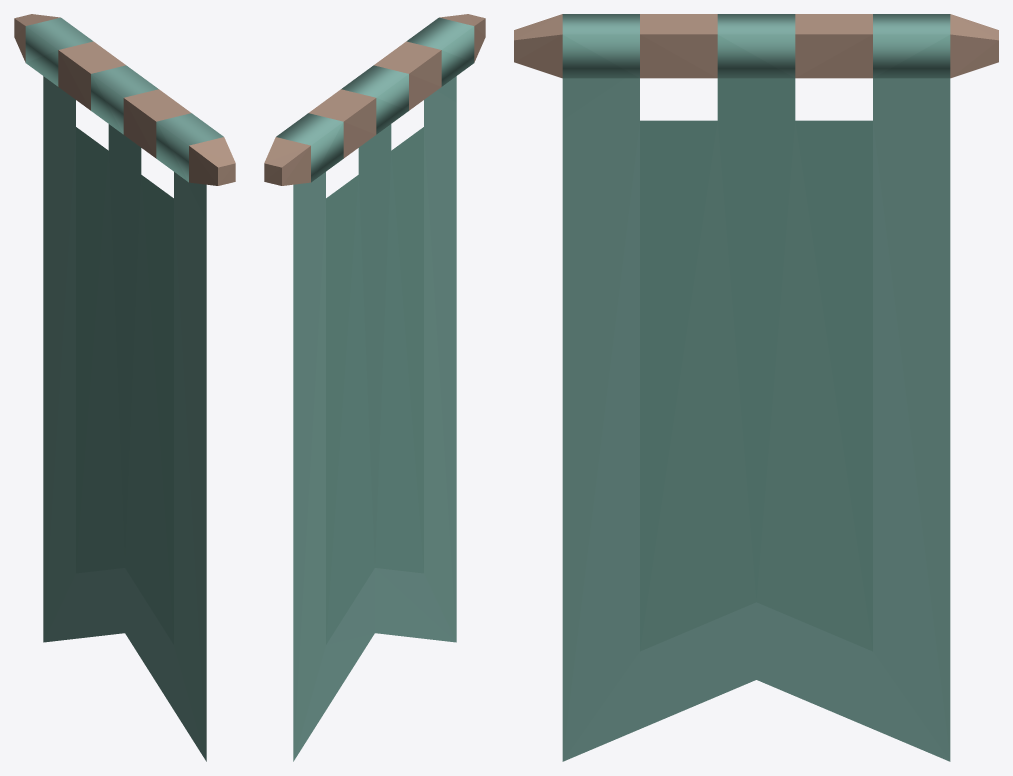
The model's file is kenney_banner-green.fbx.
3 views of the same model, side by side, from view 1: azimuth 30°, elevation 25°; view 2: azimuth 150°, elevation 25°; view 3: azimuth 270°, elevation 25° (orthographic). The views are drawn at different scales.
Parts seen in each view (by area): view 1: banner-green; view 2: banner-green; view 3: banner-green.
Part boxes in pixels (x1,y1,x2,y2): banner-green: (14, 14, 235, 761); banner-green: (264, 14, 485, 761); banner-green: (514, 14, 998, 761).
Size of the model in its own units: 5 by 83.94 by 50.
